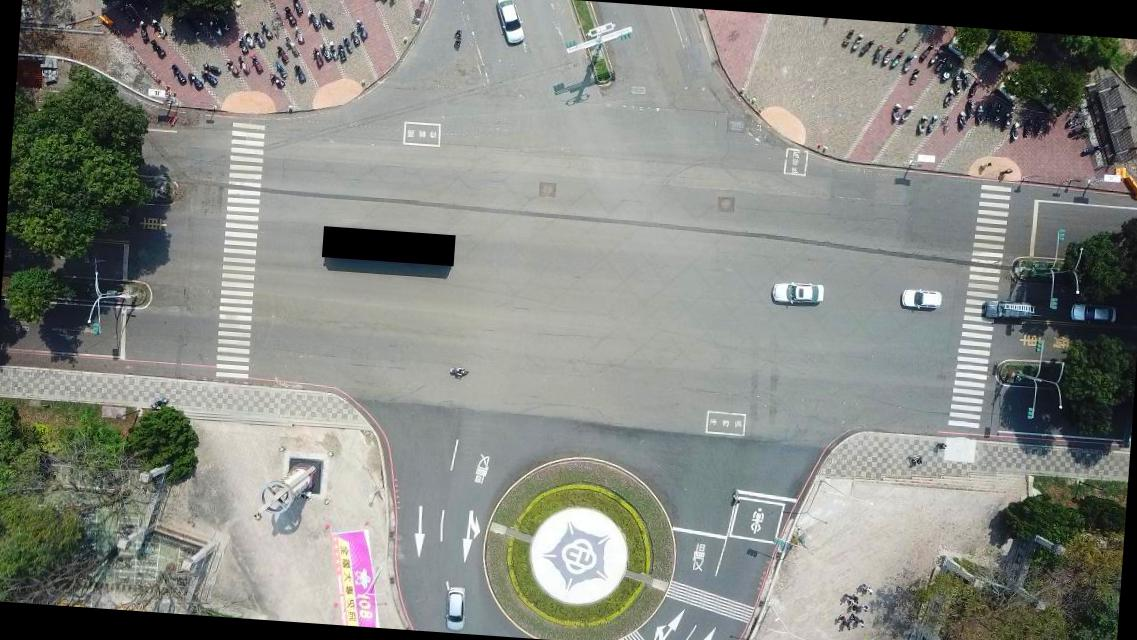vehicle: (493, 0, 528, 46), (768, 280, 823, 306), (982, 296, 1036, 322), (443, 584, 466, 632), (1069, 303, 1120, 324), (900, 287, 942, 311)
